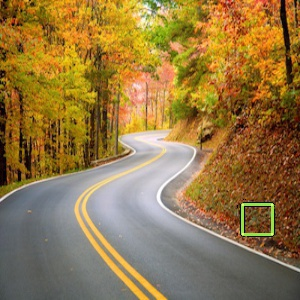square: (237, 199, 277, 239)
